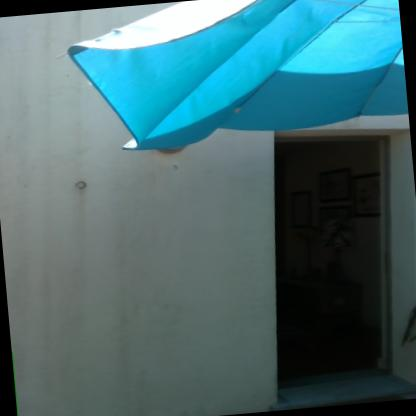open: (244, 112, 415, 410)
